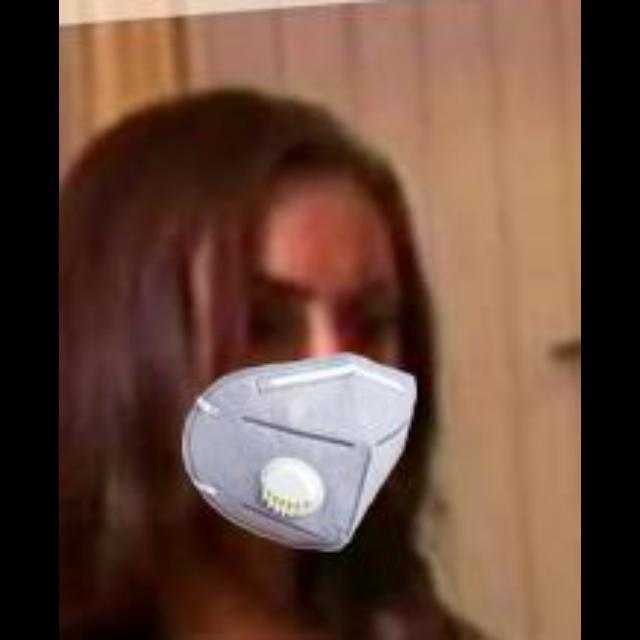suspicion: (125, 137, 453, 548)
